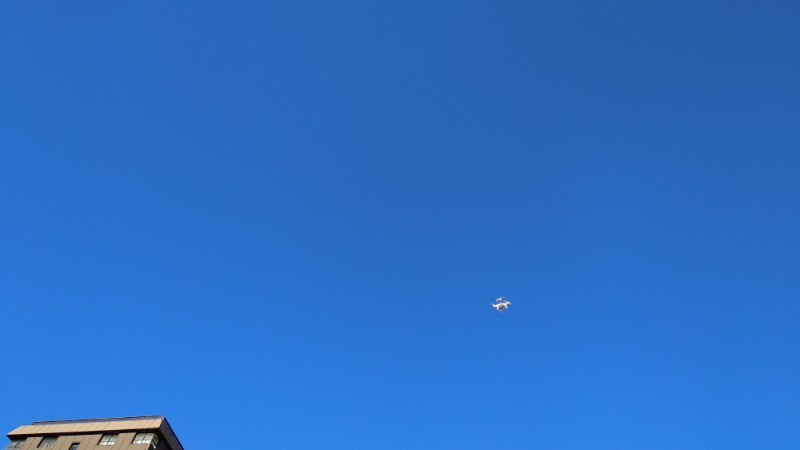drone: (490, 295, 511, 312)
